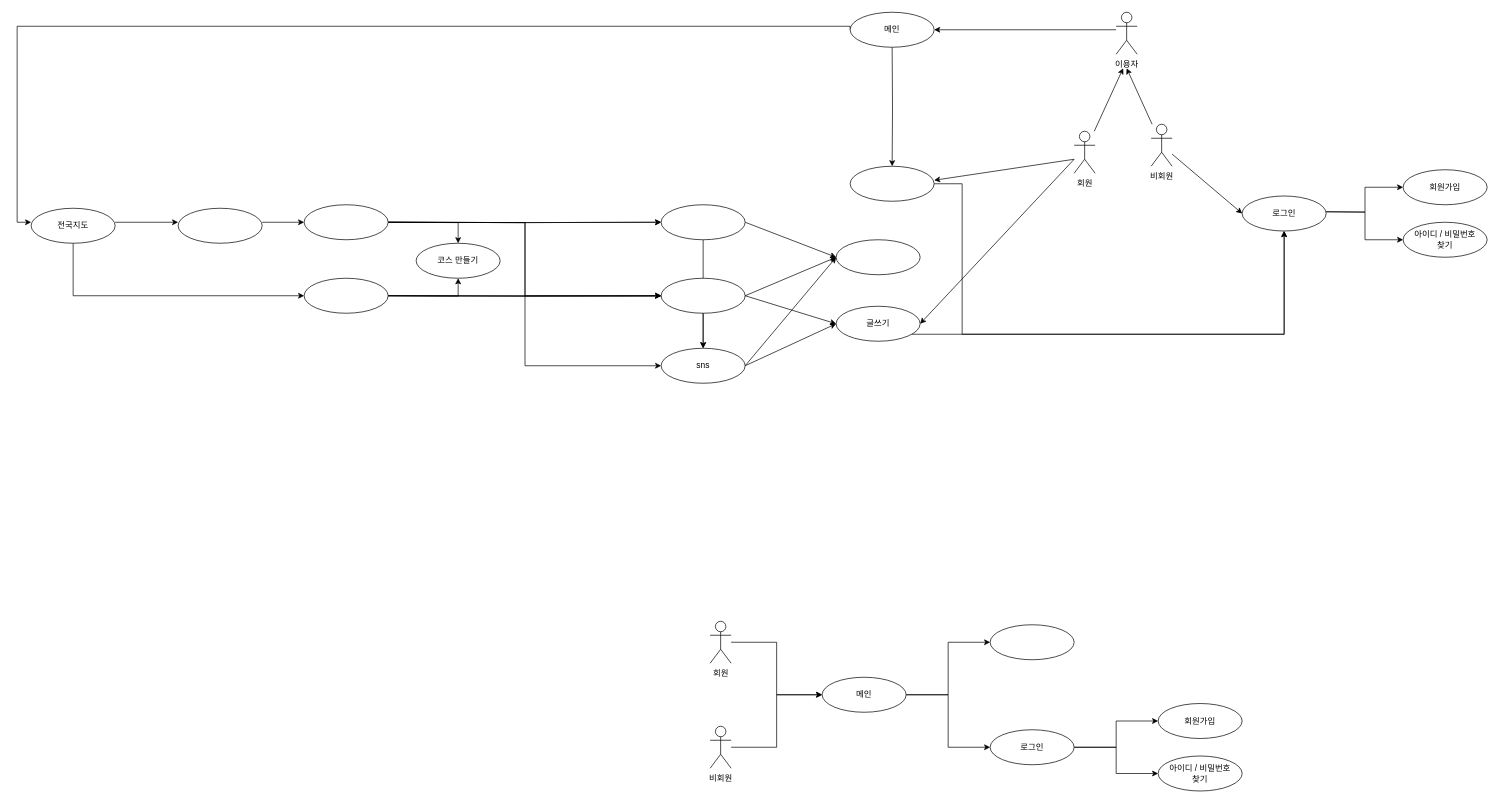
This 1499x804 diagram has some shape labels left out. Here are the shapes that lost their labels. From the top down, the box of each, then its label:
(849, 166, 934, 201): 마이페이지
(177, 208, 262, 243): 도지도
(303, 204, 388, 240): 시군구 시도
(660, 204, 745, 240): 축제
(835, 239, 920, 275): 글탐색
(303, 278, 388, 313): 광역시지도
(660, 278, 745, 313): 식당
(989, 624, 1074, 660): 로그아웃
